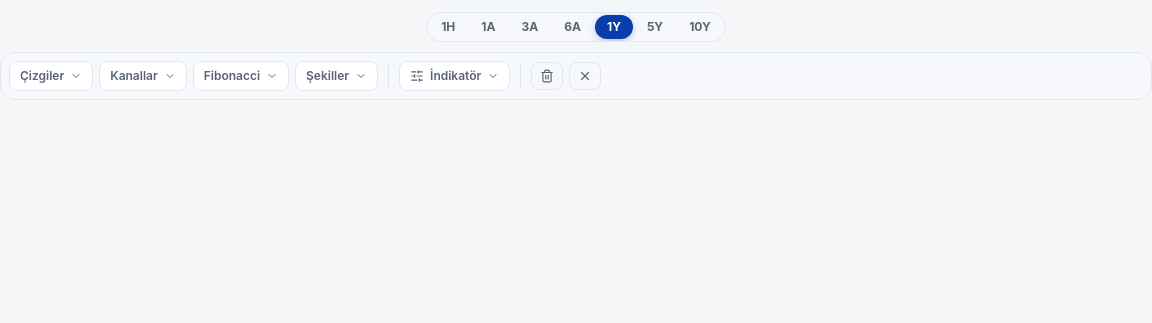
it: FxChart — çizim aracı etkileşimi › bir çizim aracı seçilince chart.createOverlay çağrılır ve aktif-araç rozeti çıkar
The image size is (1152, 323).
Click the button "Çizgiler" at (51, 76), box [9, 61, 93, 91]
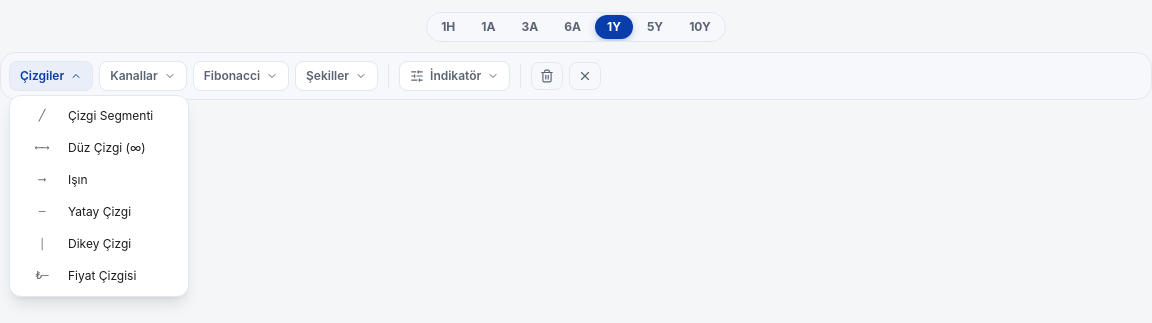
Click the button "─ Yatay Çizgi" at (99, 212), box [14, 196, 184, 228]
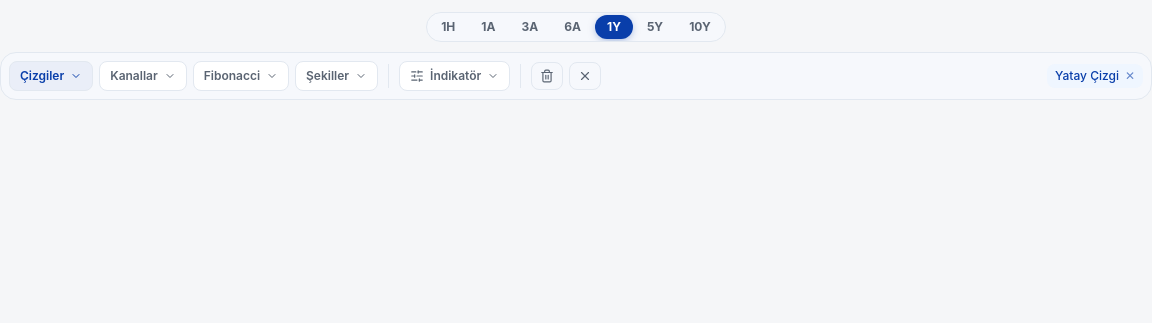
Expected: the text "Yatay Çizgi" is shown, [1055, 68, 1119, 83]
